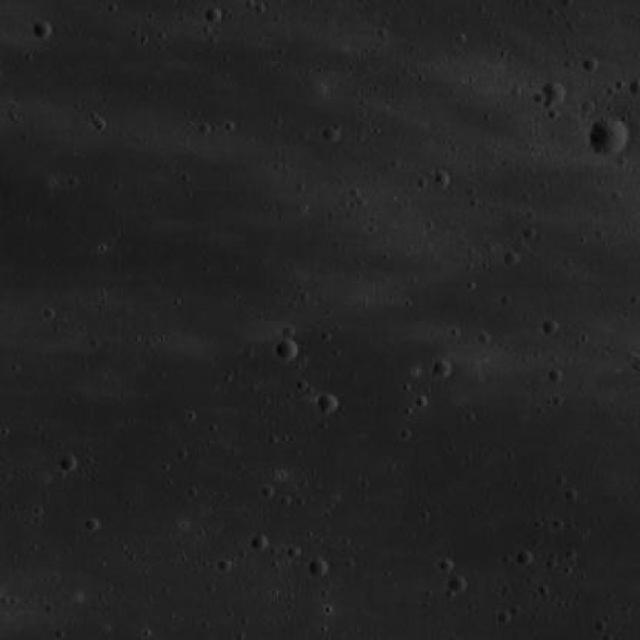crater: (590, 119, 630, 156), (543, 82, 566, 106), (278, 339, 300, 361), (320, 393, 340, 413), (309, 558, 329, 578), (34, 23, 52, 42), (254, 534, 271, 552), (436, 360, 452, 378), (324, 126, 342, 142), (61, 456, 78, 472), (452, 574, 468, 591), (518, 550, 534, 566)
